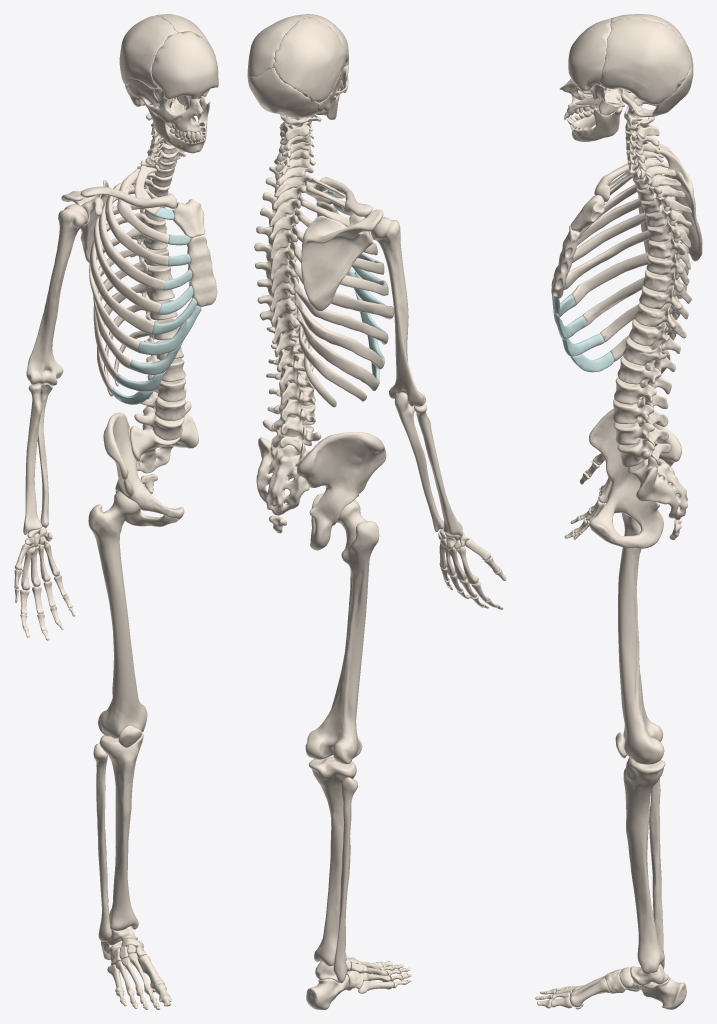
File: skeleton.glb
3 views of the same model, side by side, from view 1: azimuth 30°, elevation 25°; view 2: azimuth 150°, elevation 25°; view 3: azimuth 270°, elevation 25° (orthographic). The views are drawn at different scales.
Parts seen in each view (by area): view 1: Femur.r, Tibia.r, Frontal bone, Humerus.r, Hip bone.r, Parietal bone right, Sacrum, Fibula.r, Radius.r, Body of sternum, Rib (6th).r, Rib (4th).r (+24 smaller); view 2: Femur.r, Hip bone.r, Scapula.r., Parietal bone right, Tibia.r, Humerus.r, Sacrum, Occipital bone, Fibula.r, Parietal bone left, Ulna.r, Radius.r (+15 smaller); view 3: Parietal bone left, Femur.r, Hip bone.r, Tibia.r, Sacrum, Frontal bone, Fibula.r, Scapula.r., Mandible bone, Occipital bone, Rib (7th).r, Lumbar vertebrae (L1) (+32 smaller).
Part boxes in pixels (<box>): Femur.r: <box>88,491,147,738</box>; Tibia.r: <box>99,733,143,930</box>; Frontal bone: <box>151,31,218,99</box>; Humerus.r: <box>26,204,87,385</box>; Hip bone.r: <box>103,412,184,526</box>; Parietal bone right: <box>119,15,177,88</box>; Sacrum: <box>130,413,198,473</box>; Fibula.r: <box>93,743,111,941</box>; Radius.r: <box>23,383,42,534</box>; Body of sternum: <box>187,235,217,306</box>; Rib (6th).r: <box>90,213,154,334</box>; Rib (4th).r: <box>98,186,165,290</box>; Femur.r: <box>305,500,379,764</box>; Hip bone.r: <box>297,432,386,550</box>; Scapula.r.: <box>301,209,383,311</box>; Parietal bone right: <box>273,17,346,102</box>; Tibia.r: <box>309,756,356,966</box>; Humerus.r: <box>370,217,425,406</box>; Sacrum: <box>256,437,309,515</box>; Occipital bone: <box>248,67,318,117</box>; Fibula.r: <box>333,777,358,983</box>; Parietal bone left: <box>247,15,309,81</box>; Ulna.r: <box>394,392,443,531</box>; Radius.r: <box>414,403,462,535</box>; Parietal bone left: <box>599,18,690,104</box>; Femur.r: <box>618,513,664,764</box>; Hip bone.r: <box>589,407,681,548</box>; Tibia.r: <box>623,757,665,974</box>; Sacrum: <box>628,441,687,520</box>; Frontal bone: <box>568,18,611,90</box>; Fibula.r: <box>649,778,664,969</box>; Scapula.r.: <box>650,143,702,261</box>; Mandible bone: <box>570,105,622,141</box>; Occipital bone: <box>620,48,693,117</box>; Rib (7th).r: <box>571,242,688,305</box>; Lumbar vertebrae (L1): <box>617,356,671,394</box>.
Bounding box in the file's own units: 0.4097 × 1.7 × 0.2542.
